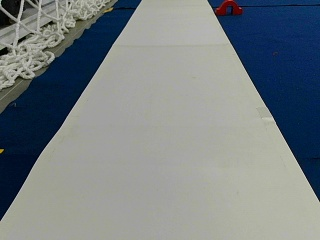bridge: (216, 0, 242, 13)
